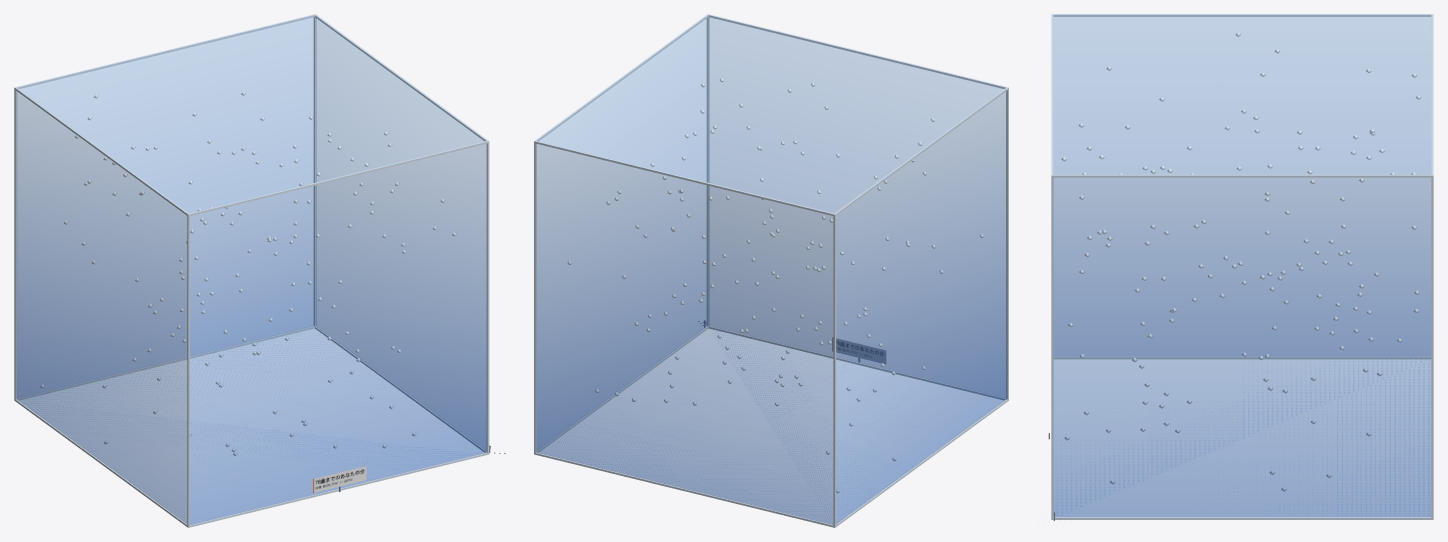
File: cube_life_76.glb
3 views of the same model, side by side, from view 1: azimuth 30°, elevation 25°; view 2: azimuth 150°, elevation 25°; view 3: azimuth 270°, elevation 25° (orthographic). The views are drawn at different scales.
Parts seen in each view (by area): view 1: co2, edge, dots, label; view 2: co2, edge, dots, label; view 3: co2, edge, dots.
Part boxes in pixels (box(x1,y1,x2,y2)): co2: box(16, 15, 486, 524); edge: box(14, 14, 489, 527); dots: box(40, 91, 456, 455); label: box(313, 466, 366, 492); co2: box(536, 15, 1006, 524); edge: box(534, 14, 1008, 527); dots: box(567, 78, 984, 493); label: box(832, 337, 885, 363); co2: box(1053, 14, 1431, 516); edge: box(1051, 14, 1433, 519); dots: box(1061, 32, 1421, 491).
Bounding box in the file's own units: 70.65 × 66.88 × 69.75.
8 materials, 3 textured.
